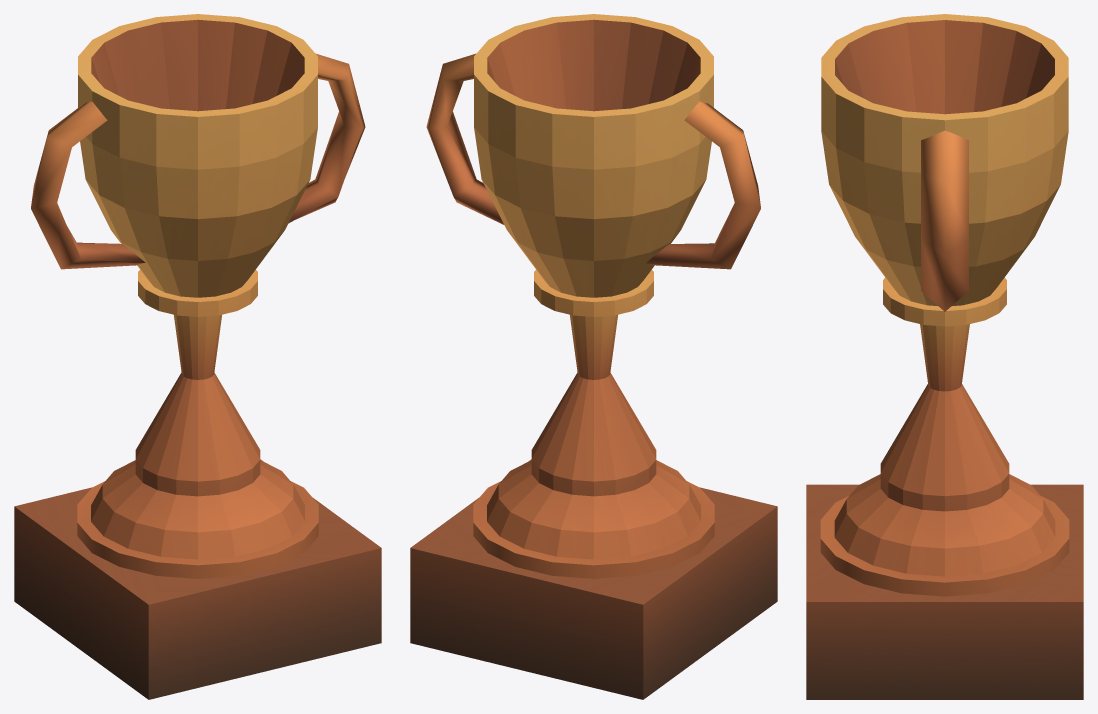
File: M_cup.FBX
The picture shows the model from 3 angles, left to right: view 1: azimuth 30°, elevation 25°; view 2: azimuth 150°, elevation 25°; view 3: azimuth 270°, elevation 25°; orthographic projection. The views are drawn at different scales.
Parts seen in each view (by area): view 1: Cylinder008; view 2: Cylinder008; view 3: Cylinder008.
Boxes of the visible parts, x1,y1,x2,y2 form: Cylinder008: [14, 14, 381, 699]; Cylinder008: [410, 14, 777, 699]; Cylinder008: [806, 14, 1083, 699].
Bounding box in the file's own units: 28.62 × 19.92 × 45.49.
